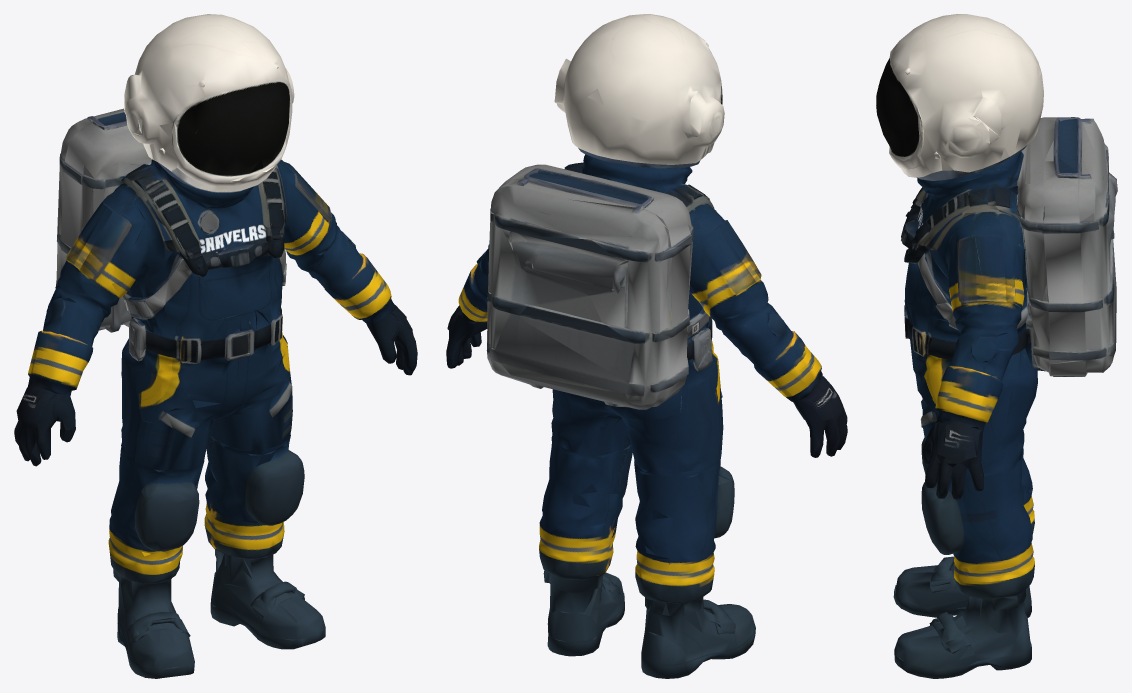
File: chunky-stylised-low-poly-space-colonist-cmwki6h6-source-a1-glb.glb
The picture shows the model from 3 angles, left to right: view 1: azimuth 30°, elevation 25°; view 2: azimuth 150°, elevation 25°; view 3: azimuth 270°, elevation 25°; orthographic projection.
Visible parts, largest first — view 1: Mesh_0; view 2: Mesh_0; view 3: Mesh_0.
Boxes of the visible parts, left/top/right/bottom form: Mesh_0: left=14, top=14, right=417, bottom=678; Mesh_0: left=446, top=14, right=847, bottom=678; Mesh_0: left=876, top=14, right=1117, bottom=678.
Size of the model in its own units: 1.19 by 1.8 by 0.6414.
Materials: 1 (1 with a texture image).
